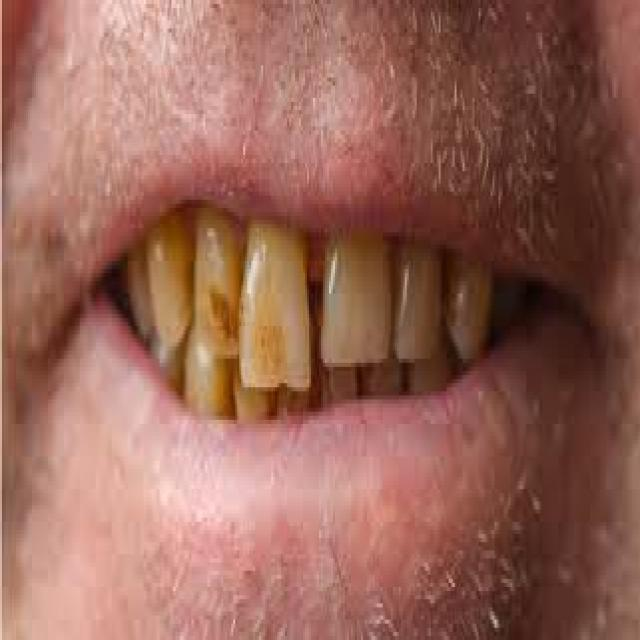Tooth Discoloration: (121, 202, 332, 434)
